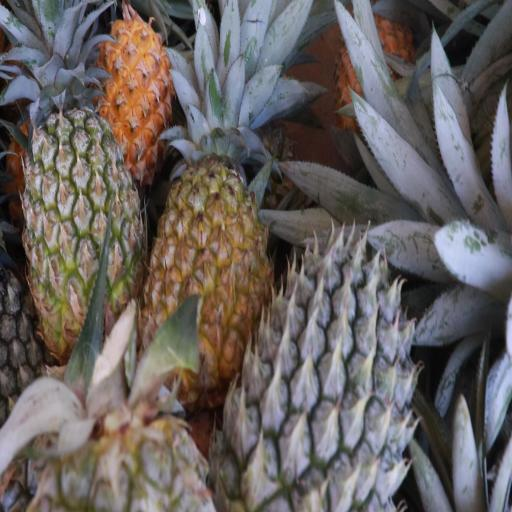------------------------------: (23, 104, 142, 337)
Pineapple - v8 v1: (146, 130, 266, 391), (61, 10, 172, 152)
